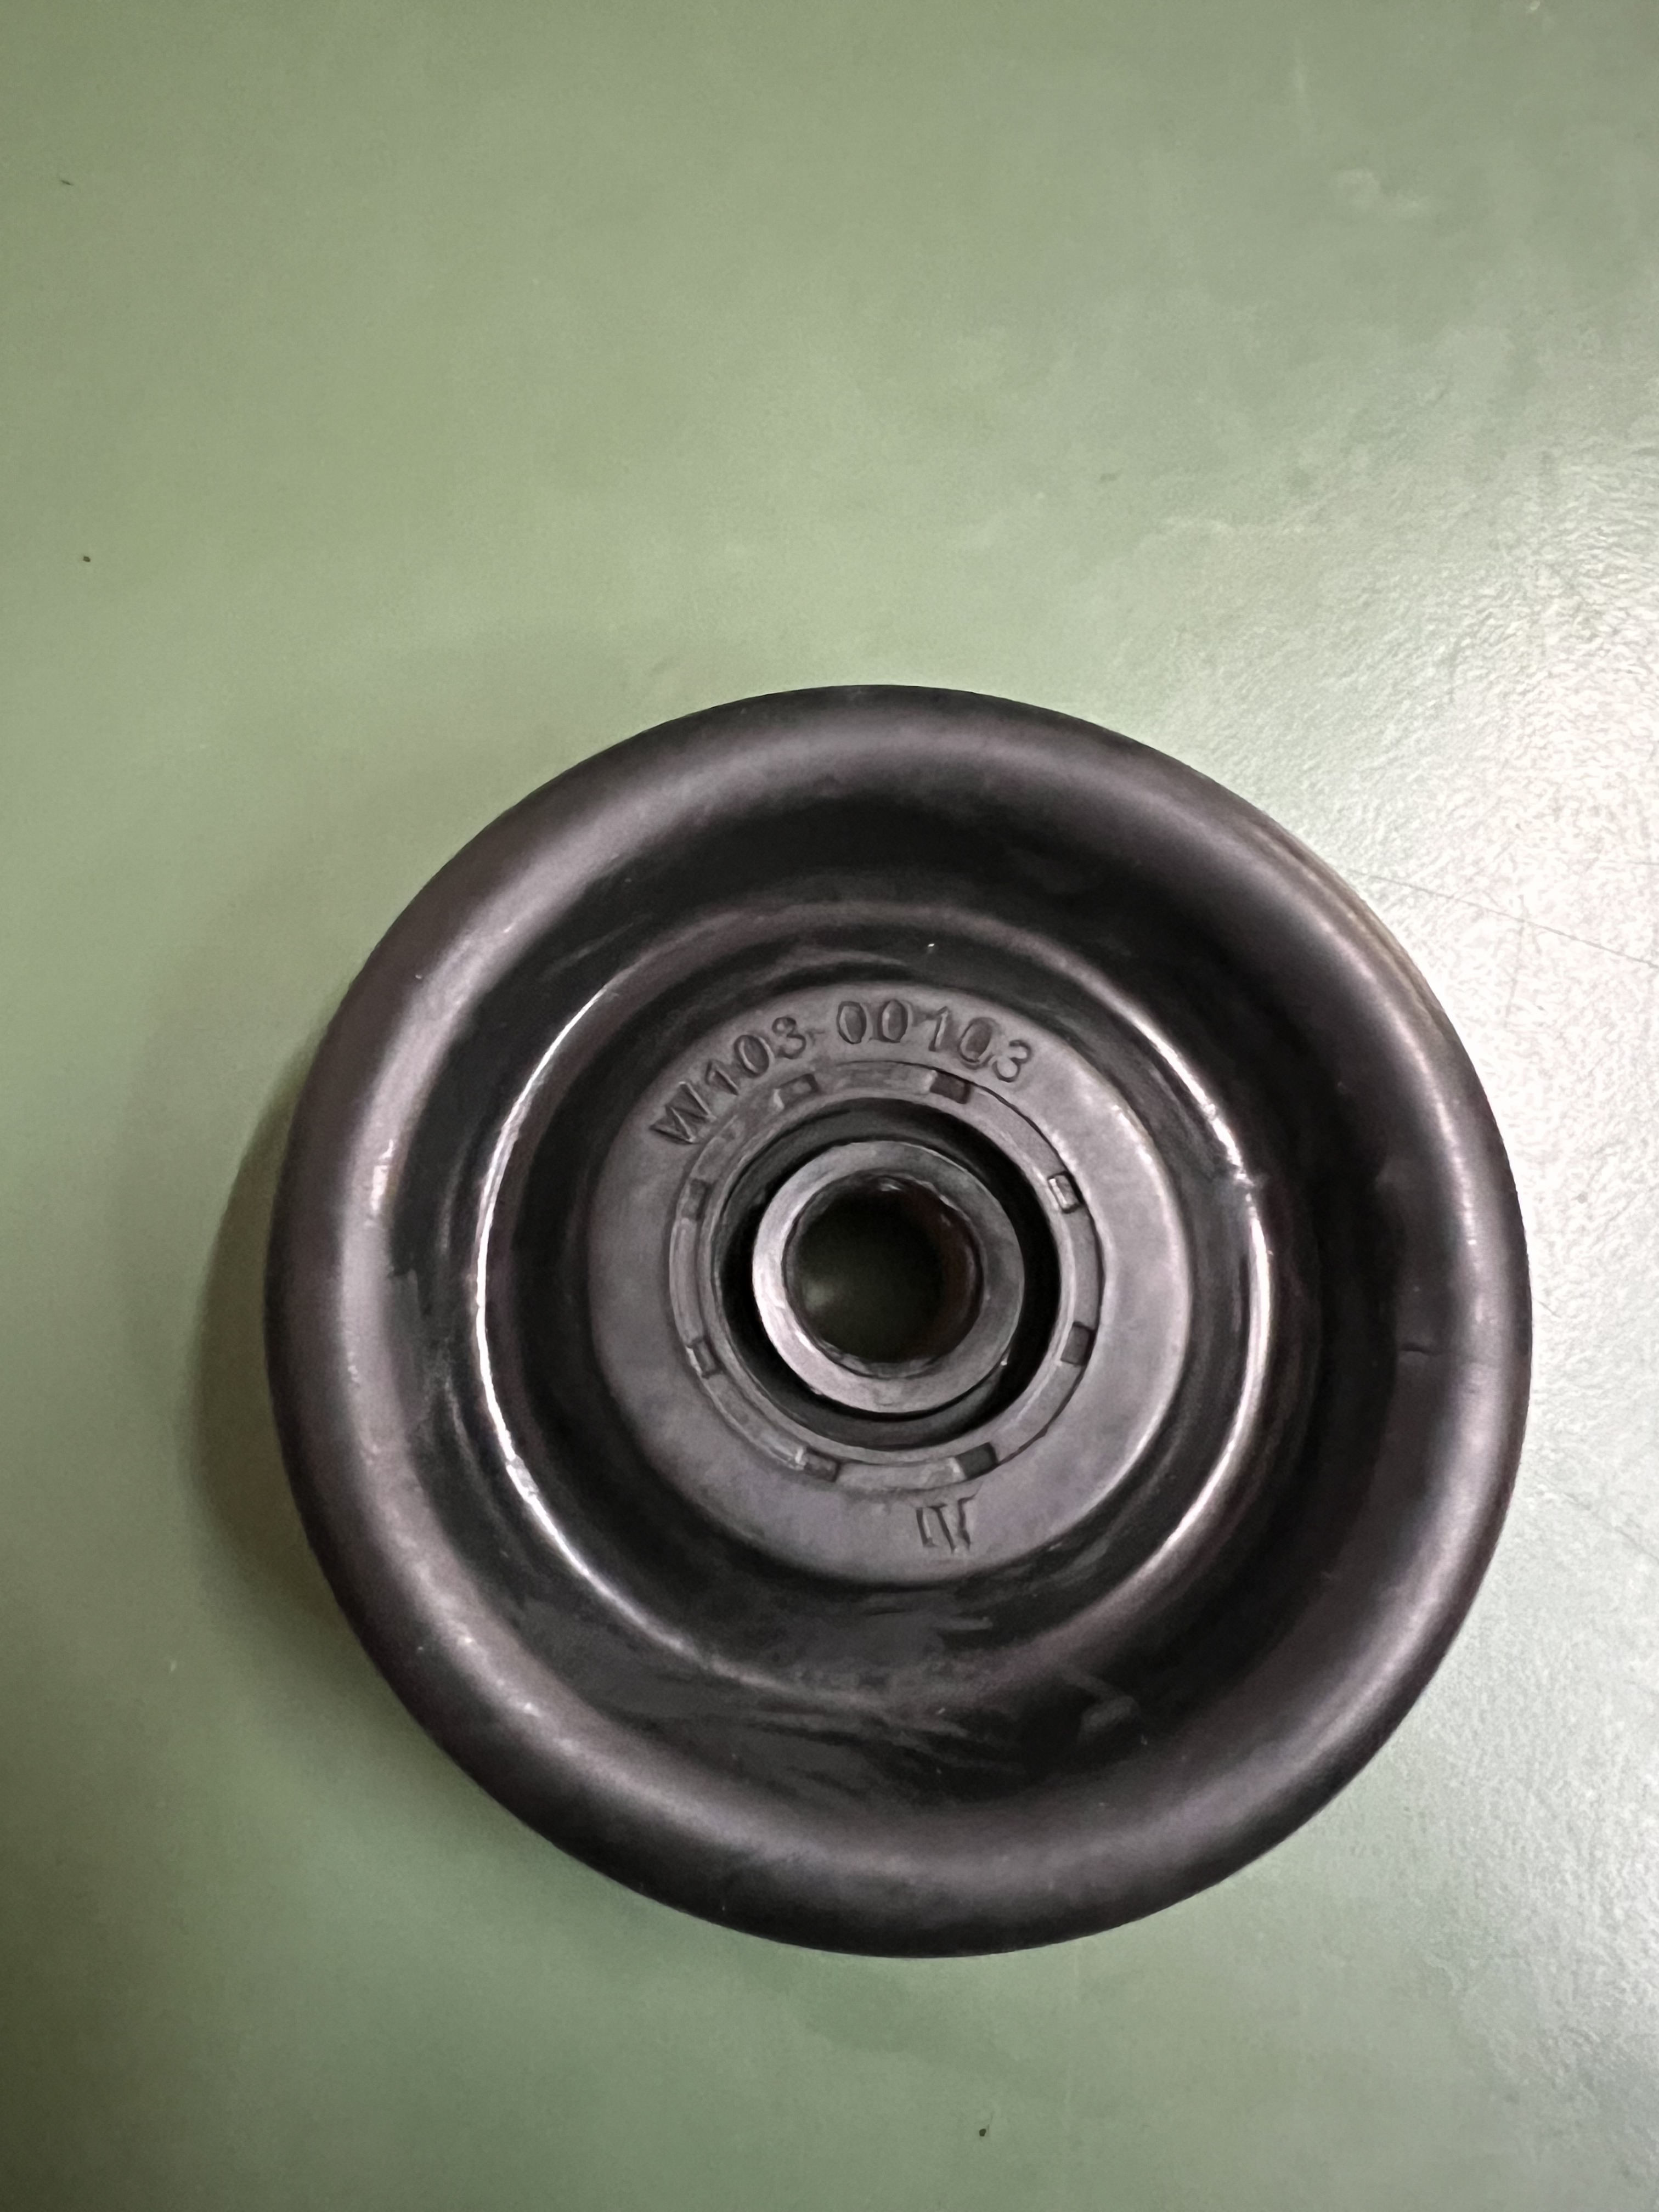lever: (253, 686, 1553, 1925)
